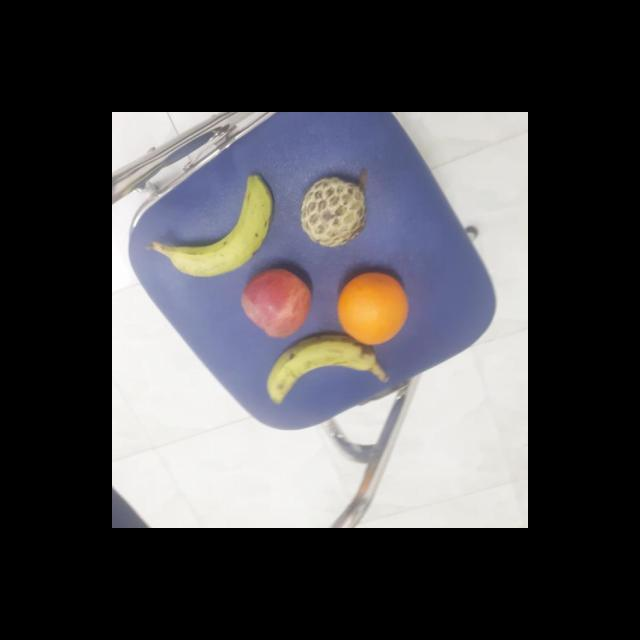Sakya fruit: (295, 178, 370, 250)
apple: (235, 269, 314, 339)
banana: (170, 172, 278, 280), (258, 334, 380, 409)
orange: (336, 273, 410, 349)
